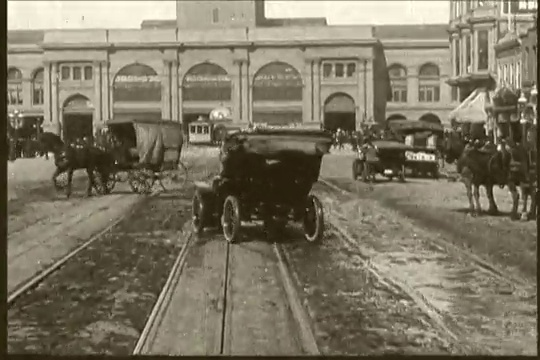car: (179, 114, 343, 255), (342, 131, 407, 185)
carriage: (33, 118, 188, 198)
horse: (438, 118, 526, 224)
trolley: (182, 115, 215, 150)
